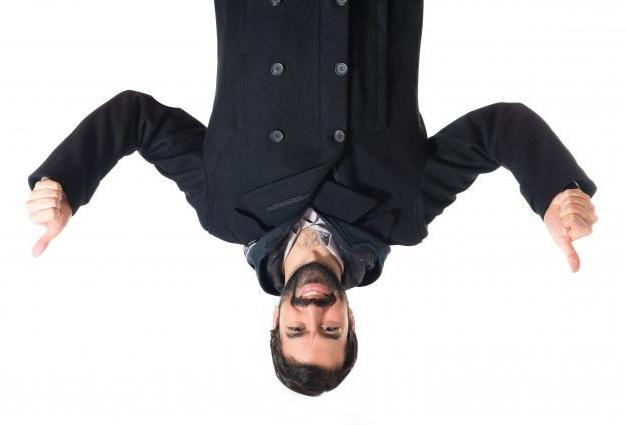thumbsdown: (558, 188, 598, 273), (26, 179, 63, 258)
